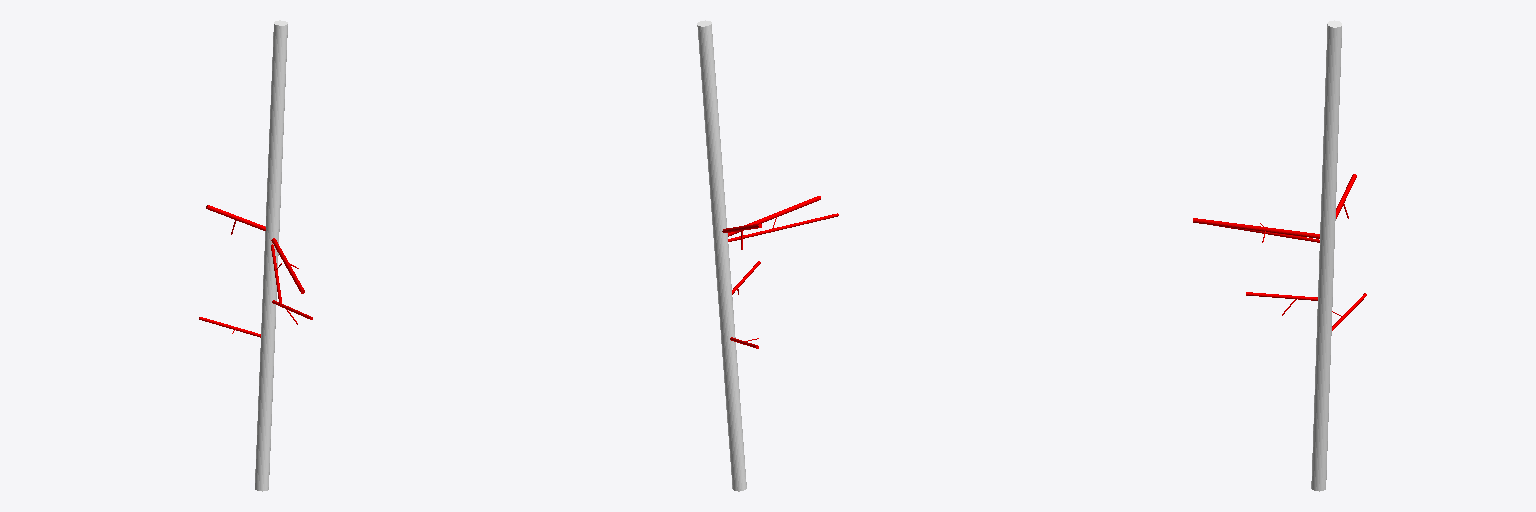
robot.urdf — tree_1.urdf:
<?xml version='1.0' encoding='UTF-8'?>
<robot name="tree_1.urdf">
  <link name="branch_0">
    <inertial>
      <origin xyz="0.0 0.0 0.0" rpy="0.0 -0.0 0.0"/>
      <mass value="0.1"/>
      <inertia ixx="0.001" ixy="0.0" ixz="0.0" iyy="0.001" iyz="0.0" izz="0.001"/>
    </inertial>
    <visual name="branch_0_visual">
      <geometry>
        <cylinder radius="0.15021717346723243" length="10.595359487547338"/>
      </geometry>
      <material name="branch_material"/>
      <origin xyz="0.32727484326908773 0.16157609320963698 5.285091769369398" rpy="0.0 0.06895029133726574 0.4585961550633675"/>
    </visual>
    <collision name="branch_0_collision">
      <geometry>
        <cylinder radius="0.15021717346723243" length="10.595359487547338"/>
      </geometry>
      <origin xyz="0.32727484326908773 0.16157609320963698 5.285091769369398" rpy="0.0 0.06895029133726574 0.4585961550633675"/>
    </collision>
  </link>
  <link name="branch_1">
    <inertial>
      <origin xyz="0.0 0.0 0.0" rpy="0.0 -0.0 0.0"/>
      <mass value="0.1"/>
      <inertia ixx="0.001" ixy="0.0" ixz="0.0" iyy="0.001" iyz="0.0" izz="0.001"/>
    </inertial>
    <visual name="branch_1_visual">
      <geometry>
        <cylinder radius="0.035328052715285226" length="1.5111455165567191"/>
      </geometry>
      <material name="semantic_material"/>
      <origin xyz="0.0 0.0 0.0" rpy="0.0 -0.0 0.0"/>
    </visual>
    <collision name="branch_1_collision">
      <geometry>
        <cylinder radius="0.035328052715285226" length="1.5111455165567191"/>
      </geometry>
      <origin xyz="0.0 0.0 0.0" rpy="0.0 -0.0 0.0"/>
    </collision>
  </link>
  <link name="branch_2">
    <inertial>
      <origin xyz="0.0 0.0 0.0" rpy="0.0 -0.0 0.0"/>
      <mass value="0.1"/>
      <inertia ixx="0.001" ixy="0.0" ixz="0.0" iyy="0.001" iyz="0.0" izz="0.001"/>
    </inertial>
    <visual name="branch_2_visual">
      <geometry>
        <cylinder radius="0.010296073012058501" length="0.36610186126420613"/>
      </geometry>
      <material name="semantic_material"/>
      <origin xyz="0.0 0.0 0.0" rpy="0.0 -0.0 0.0"/>
    </visual>
    <collision name="branch_2_collision">
      <geometry>
        <cylinder radius="0.010296073012058501" length="0.36610186126420613"/>
      </geometry>
      <origin xyz="0.0 0.0 0.0" rpy="0.0 -0.0 0.0"/>
    </collision>
  </link>
  <link name="branch_3">
    <inertial>
      <origin xyz="0.0 0.0 0.0" rpy="0.0 -0.0 0.0"/>
      <mass value="0.1"/>
      <inertia ixx="0.001" ixy="0.0" ixz="0.0" iyy="0.001" iyz="0.0" izz="0.001"/>
    </inertial>
    <visual name="branch_3_visual">
      <geometry>
        <cylinder radius="0.035789779646254745" length="1.6061812170457745"/>
      </geometry>
      <material name="semantic_material"/>
      <origin xyz="0.0 0.0 0.0" rpy="0.0 -0.0 0.0"/>
    </visual>
    <collision name="branch_3_collision">
      <geometry>
        <cylinder radius="0.035789779646254745" length="1.6061812170457745"/>
      </geometry>
      <origin xyz="0.0 0.0 0.0" rpy="0.0 -0.0 0.0"/>
    </collision>
  </link>
  <link name="branch_4">
    <inertial>
      <origin xyz="0.0 0.0 0.0" rpy="0.0 -0.0 0.0"/>
      <mass value="0.1"/>
      <inertia ixx="0.001" ixy="0.0" ixz="0.0" iyy="0.001" iyz="0.0" izz="0.001"/>
    </inertial>
    <visual name="branch_4_visual">
      <geometry>
        <cylinder radius="0.013670628397608795" length="0.4732156421952991"/>
      </geometry>
      <material name="semantic_material"/>
      <origin xyz="0.0 0.0 0.0" rpy="0.0 -0.0 0.0"/>
    </visual>
    <collision name="branch_4_collision">
      <geometry>
        <cylinder radius="0.013670628397608795" length="0.4732156421952991"/>
      </geometry>
      <origin xyz="0.0 0.0 0.0" rpy="0.0 -0.0 0.0"/>
    </collision>
  </link>
  <link name="branch_5">
    <inertial>
      <origin xyz="0.0 0.0 0.0" rpy="0.0 -0.0 0.0"/>
      <mass value="0.1"/>
      <inertia ixx="0.001" ixy="0.0" ixz="0.0" iyy="0.001" iyz="0.0" izz="0.001"/>
    </inertial>
    <visual name="branch_5_visual">
      <geometry>
        <cylinder radius="0.048495164670840064" length="2.8089956300094907"/>
      </geometry>
      <material name="semantic_material"/>
      <origin xyz="0.0 0.0 0.0" rpy="0.0 -0.0 0.0"/>
    </visual>
    <collision name="branch_5_collision">
      <geometry>
        <cylinder radius="0.048495164670840064" length="2.8089956300094907"/>
      </geometry>
      <origin xyz="0.0 0.0 0.0" rpy="0.0 -0.0 0.0"/>
    </collision>
  </link>
  <link name="branch_6">
    <inertial>
      <origin xyz="0.0 0.0 0.0" rpy="0.0 -0.0 0.0"/>
      <mass value="0.1"/>
      <inertia ixx="0.001" ixy="0.0" ixz="0.0" iyy="0.001" iyz="0.0" izz="0.001"/>
    </inertial>
    <visual name="branch_6_visual">
      <geometry>
        <cylinder radius="0.012071228600920351" length="0.31789098751482275"/>
      </geometry>
      <material name="semantic_material"/>
      <origin xyz="0.0 0.0 0.0" rpy="0.0 -0.0 0.0"/>
    </visual>
    <collision name="branch_6_collision">
      <geometry>
        <cylinder radius="0.012071228600920351" length="0.31789098751482275"/>
      </geometry>
      <origin xyz="0.0 0.0 0.0" rpy="0.0 -0.0 0.0"/>
    </collision>
  </link>
  <link name="branch_7">
    <inertial>
      <origin xyz="0.0 0.0 0.0" rpy="0.0 -0.0 0.0"/>
      <mass value="0.1"/>
      <inertia ixx="0.001" ixy="0.0" ixz="0.0" iyy="0.001" iyz="0.0" izz="0.001"/>
    </inertial>
    <visual name="branch_7_visual">
      <geometry>
        <cylinder radius="0.04842405965016268" length="1.5361586396887108"/>
      </geometry>
      <material name="semantic_material"/>
      <origin xyz="0.0 0.0 0.0" rpy="0.0 -0.0 0.0"/>
    </visual>
    <collision name="branch_7_collision">
      <geometry>
        <cylinder radius="0.04842405965016268" length="1.5361586396887108"/>
      </geometry>
      <origin xyz="0.0 0.0 0.0" rpy="0.0 -0.0 0.0"/>
    </collision>
  </link>
  <link name="branch_8">
    <inertial>
      <origin xyz="0.0 0.0 0.0" rpy="0.0 -0.0 0.0"/>
      <mass value="0.1"/>
      <inertia ixx="0.001" ixy="0.0" ixz="0.0" iyy="0.001" iyz="0.0" izz="0.001"/>
    </inertial>
    <visual name="branch_8_visual">
      <geometry>
        <cylinder radius="0.015505651909709196" length="0.4435775564675056"/>
      </geometry>
      <material name="semantic_material"/>
      <origin xyz="0.0 0.0 0.0" rpy="0.0 -0.0 0.0"/>
    </visual>
    <collision name="branch_8_collision">
      <geometry>
        <cylinder radius="0.015505651909709196" length="0.4435775564675056"/>
      </geometry>
      <origin xyz="0.0 0.0 0.0" rpy="0.0 -0.0 0.0"/>
    </collision>
  </link>
  <link name="branch_9">
    <inertial>
      <origin xyz="0.0 0.0 0.0" rpy="0.0 -0.0 0.0"/>
      <mass value="0.1"/>
      <inertia ixx="0.001" ixy="0.0" ixz="0.0" iyy="0.001" iyz="0.0" izz="0.001"/>
    </inertial>
    <visual name="branch_9_visual">
      <geometry>
        <cylinder radius="0.03401294555834125" length="2.9051311741949926"/>
      </geometry>
      <material name="semantic_material"/>
      <origin xyz="0.0 0.0 0.0" rpy="0.0 -0.0 0.0"/>
    </visual>
    <collision name="branch_9_collision">
      <geometry>
        <cylinder radius="0.03401294555834125" length="2.9051311741949926"/>
      </geometry>
      <origin xyz="0.0 0.0 0.0" rpy="0.0 -0.0 0.0"/>
    </collision>
  </link>
  <link name="branch_10">
    <inertial>
      <origin xyz="0.0 0.0 0.0" rpy="0.0 -0.0 0.0"/>
      <mass value="0.1"/>
      <inertia ixx="0.001" ixy="0.0" ixz="0.0" iyy="0.001" iyz="0.0" izz="0.001"/>
    </inertial>
    <visual name="branch_10_visual">
      <geometry>
        <cylinder radius="0.010604328281722898" length="0.32075133265835176"/>
      </geometry>
      <material name="semantic_material"/>
      <origin xyz="0.0 0.0 0.0" rpy="0.0 -0.0 0.0"/>
    </visual>
    <collision name="branch_10_collision">
      <geometry>
        <cylinder radius="0.010604328281722898" length="0.32075133265835176"/>
      </geometry>
      <origin xyz="0.0 0.0 0.0" rpy="0.0 -0.0 0.0"/>
    </collision>
  </link>
  <joint name="joint_0_1" type="fixed">
    <parent link="branch_0"/>
    <child link="branch_1"/>
    <axis xyz="1. 0. 0."/>
    <origin xyz="-0.3821066727136324 0.5258912329619887 3.6249091184755886" rpy="0.22192807698004324 1.2942788540372085 2.755249117144938"/>
  </joint>
  <joint name="joint_0_3" type="fixed">
    <parent link="branch_0"/>
    <child link="branch_3"/>
    <axis xyz="1. 0. 0."/>
    <origin xyz="0.31955712948925513 -0.6648208907665357 4.379119815250514" rpy="-0.5021960954847903 1.4384258027329315 -2.0087895962426945"/>
  </joint>
  <joint name="joint_0_5" type="fixed">
    <parent link="branch_0"/>
    <child link="branch_5"/>
    <axis xyz="1. 0. 0."/>
    <origin xyz="-0.04923290272962826 -1.1710716965905794 5.709220374358474" rpy="-1.5394872423321895 1.5202574855598305 2.882107353791251"/>
  </joint>
  <joint name="joint_0_7" type="fixed">
    <parent link="branch_0"/>
    <child link="branch_7"/>
    <axis xyz="1. 0. 0."/>
    <origin xyz="-0.27646623554985816 0.4539189460778028 6.165345293952135" rpy="0.12018339087089842 1.1273267935934315 2.866951627357516"/>
  </joint>
  <joint name="joint_0_9" type="fixed">
    <parent link="branch_0"/>
    <child link="branch_9"/>
    <axis xyz="1. 0. 0."/>
    <origin xyz="-0.29370260208651877 -1.1314788911615334 5.529832667850408" rpy="-2.3682744713240074 1.5104086808479102 1.8882880667413309"/>
  </joint>
  <joint name="joint_1_2" type="fixed">
    <parent link="branch_0"/>
    <child link="branch_2"/>
    <axis xyz="1. 0. 0."/>
    <origin xyz="-0.4694551638172669 0.3661521211808465 3.630117769468646" rpy="1.4729916144112232 0.2582406393127804 -0.7659335657590365"/>
  </joint>
  <joint name="joint_3_4" type="fixed">
    <parent link="branch_0"/>
    <child link="branch_4"/>
    <axis xyz="1. 0. 0."/>
    <origin xyz="0.3784729412708504 -0.585801556505508 4.188872246464086" rpy="2.6914568057823303 0.6995255860730974 1.3782138673515356"/>
  </joint>
  <joint name="joint_5_6" type="fixed">
    <parent link="branch_0"/>
    <child link="branch_6"/>
    <axis xyz="1. 0. 0."/>
    <origin xyz="0.11197441496338992 -1.0922411687651898 5.620585399857079" rpy="2.1611890249244285 -0.025393380057495994 1.3202706297729494"/>
  </joint>
  <joint name="joint_7_8" type="fixed">
    <parent link="branch_0"/>
    <child link="branch_8"/>
    <axis xyz="1. 0. 0."/>
    <origin xyz="-0.36750711143603937 0.5391277712639472 5.984914431045326" rpy="-2.959845685161703 0.2433558037197106 -0.44729230377666174"/>
  </joint>
  <joint name="joint_9_10" type="fixed">
    <parent link="branch_0"/>
    <child link="branch_10"/>
    <axis xyz="1. 0. 0."/>
    <origin xyz="-0.20790784111858598 -1.0788327836536926 5.656654670207603" rpy="0.4941593479222153 -0.5665913120192247 0.8514385455773997"/>
  </joint>
  <material name="branch_material">
    <color rgba="1. 1. 1. 1."/>
  </material>
  <material name="semantic_material">
    <color rgba="1. 0. 0. 1."/>
  </material>
</robot>

--- What the picture shows (computed from the rendered views, not written in the file) ---
The picture shows the robot from 3 angles, left to right: view 1: azimuth 30°, elevation 25°; view 2: azimuth 150°, elevation 25°; view 3: azimuth 270°, elevation 25°; orthographic projection.
Model tree_1.urdf with 11 links and 10 joints (10 fixed), rooted at branch_0, posed all joints at 0.
Visible links, largest first — view 1: branch_0; view 2: branch_0; view 3: branch_0, branch_5.
Link boxes in pixels (x1=…): branch_0: x1=255, y1=20, x2=287, y2=491; branch_0: x1=697, y1=20, x2=746, y2=491; branch_0: x1=1311, y1=20, x2=1341, y2=491; branch_5: x1=1193, y1=218, x2=1319, y2=238.
Size in the robot's own frame: 1.8 by 3.51 by 10.59 metres.
Geometry: primitives only (box / cylinder / sphere), no mesh files.
